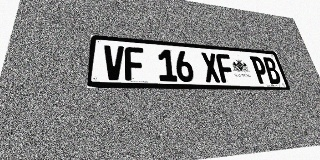1: (157, 49, 177, 82)
6: (174, 50, 195, 82)
B: (262, 57, 282, 84)
F: (124, 46, 145, 81), (215, 53, 236, 83)
P: (249, 56, 270, 84)
V: (103, 45, 124, 80)
X: (200, 52, 221, 83)
